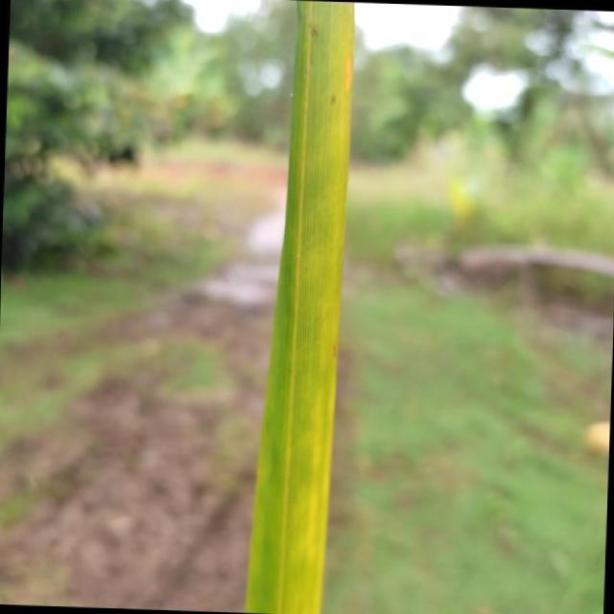nitrogen: (240, 0, 356, 614)
